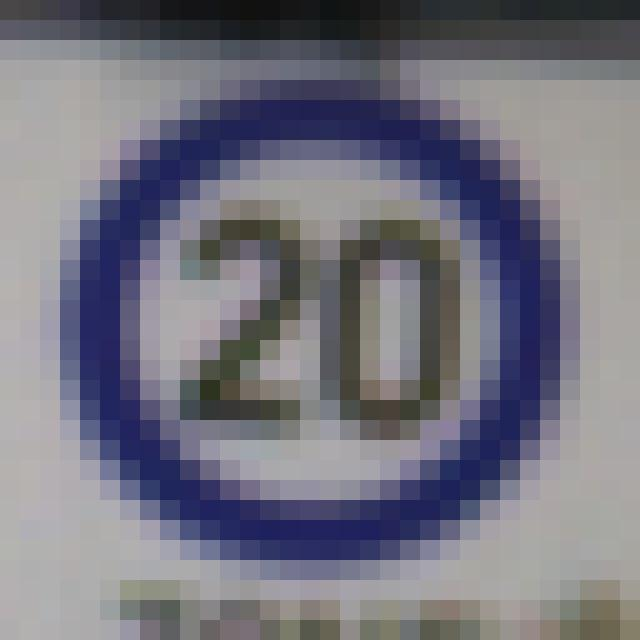SPEED LIMIT 20: (61, 81, 580, 556)
